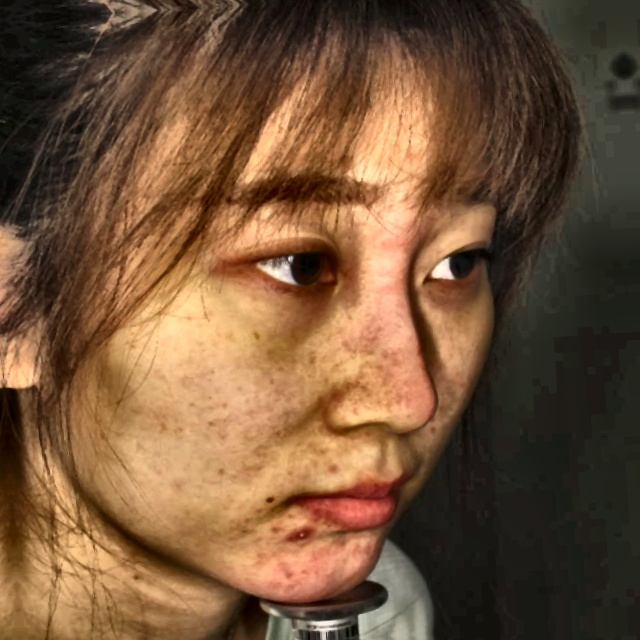comedone: (322, 530, 349, 556), (287, 524, 316, 544)
